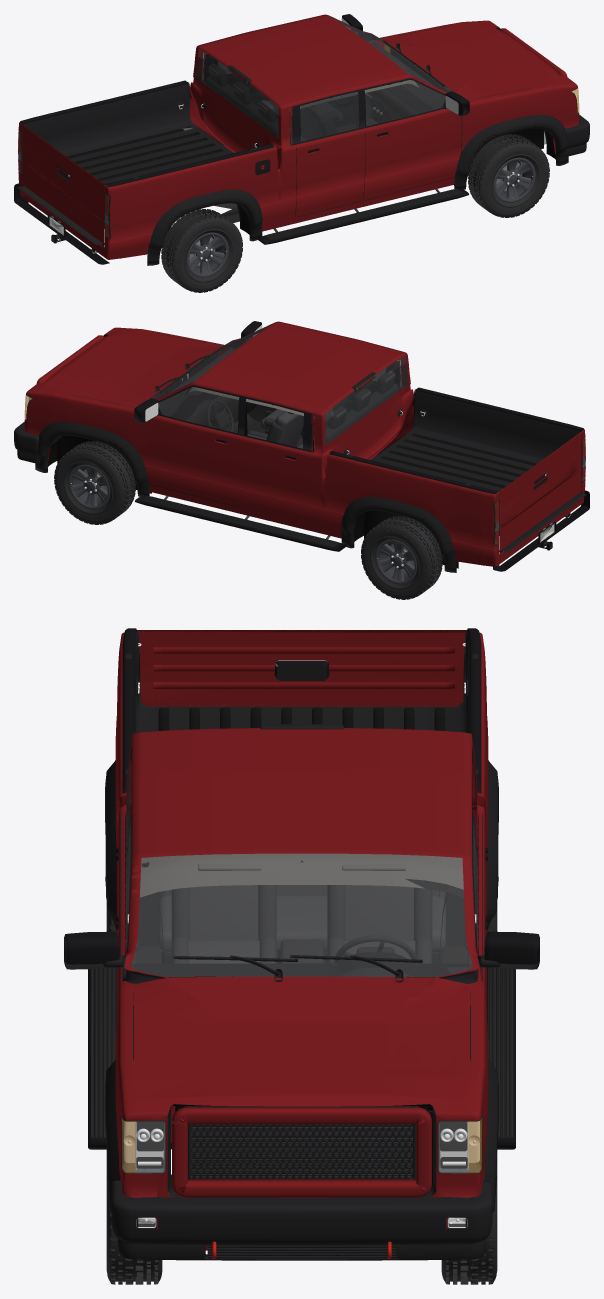
The model's file is pickup_studio.glb.
3 views of the same model, one above another, from view 1: azimuth 30°, elevation 25°; view 2: azimuth 150°, elevation 25°; view 3: azimuth 270°, elevation 25° (orthographic). The views are drawn at different scales.
Visible parts, largest first — view 1: body, hood, wheel_fr, wheel_rr, bay; view 2: body, hood, wheel_fl, wheel_rl, bay; view 3: body, hood, bay, lamp_head, wheel_fl, wheel_fr, lamp_amber.
Part boxes in pixels (x1,y1,x2,y2): body: [14, 14, 589, 265]; hood: [382, 22, 564, 100]; wheel_fr: [468, 134, 549, 217]; wheel_rr: [161, 209, 242, 292]; bay: [381, 41, 555, 162]; body: [14, 321, 589, 572]; hood: [39, 329, 221, 407]; wheel_fl: [54, 441, 135, 524]; wheel_rl: [361, 516, 442, 599]; bay: [48, 348, 222, 469]; body: [64, 628, 539, 1260]; hood: [133, 982, 470, 1100]; bay: [171, 1104, 432, 1183]; lamp_head: [136, 1121, 467, 1226]; wheel_fl: [441, 1153, 497, 1284]; wheel_fr: [106, 1153, 162, 1284]; lamp_amber: [122, 1118, 481, 1173].
Bounding box in the file's own units: 5.92 × 1.87 × 2.45.
